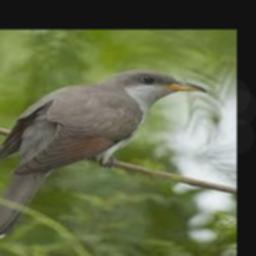Cuckoo: (0, 69, 205, 241)
